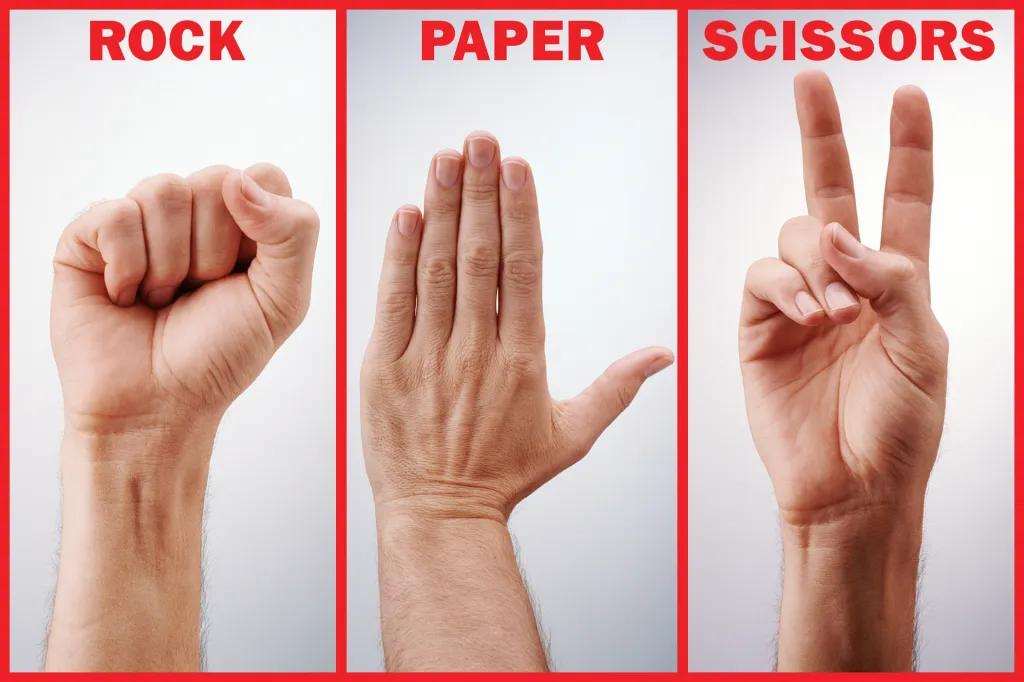paper: (358, 122, 676, 524)
rock: (45, 151, 321, 427)
scissors: (730, 68, 981, 517)
